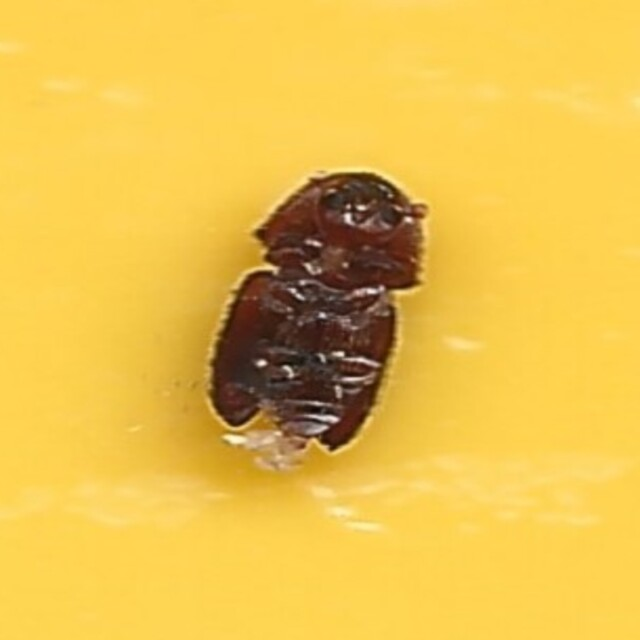Coleoptera: (210, 171, 430, 469)
